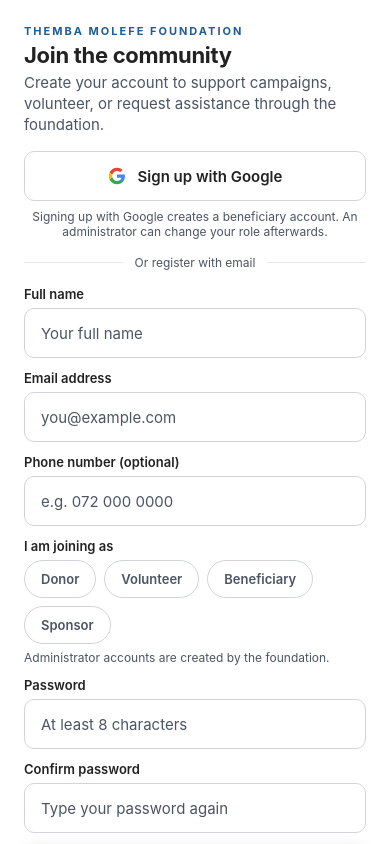
it: RegisterScreen › needs a role to be chosen
The width and height of the screenshot is (390, 844).
In the field with placeholder "Your full name": (195, 333) left=24, top=308, right=366, bottom=358, type "Thandi Mokoena"
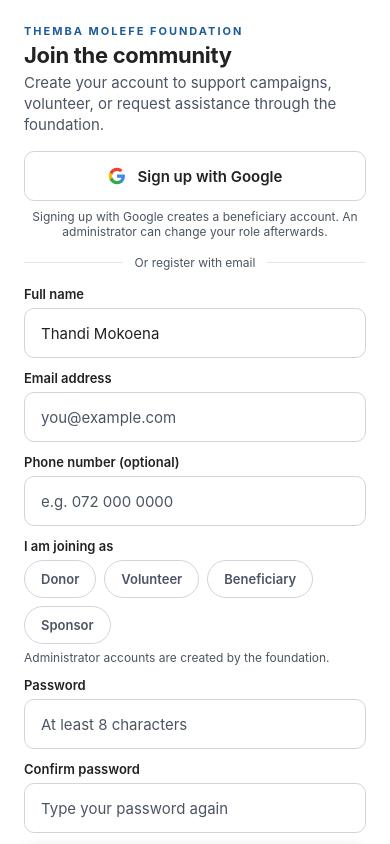
In the field with placeholder "you@example.com": (195, 417) left=24, top=392, right=366, bottom=442, type "thandi@example.com"
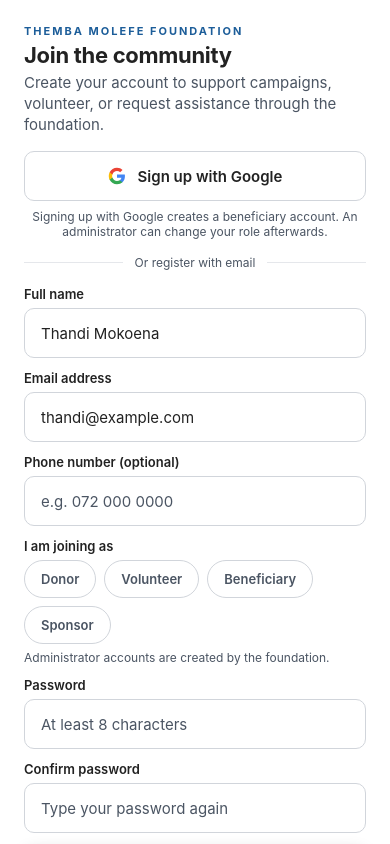
In the field with placeholder "e.g. 072 000 0000": (195, 501) left=24, top=476, right=366, bottom=526, type "072 000 0000"
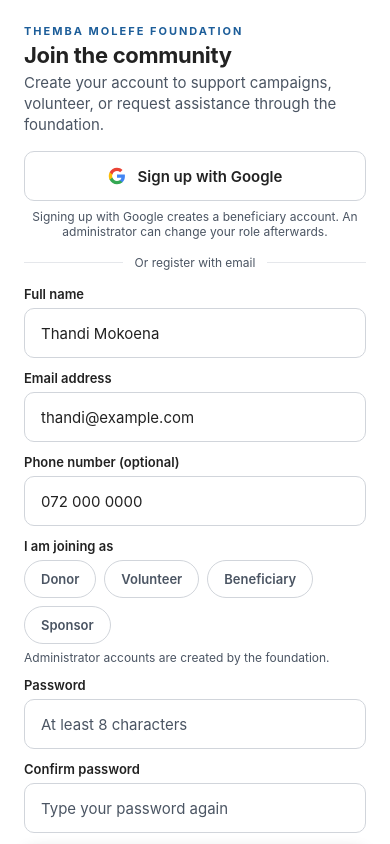
In the password field with placeholder "At least 8 characters": (195, 724) left=24, top=699, right=366, bottom=749, type "community123"
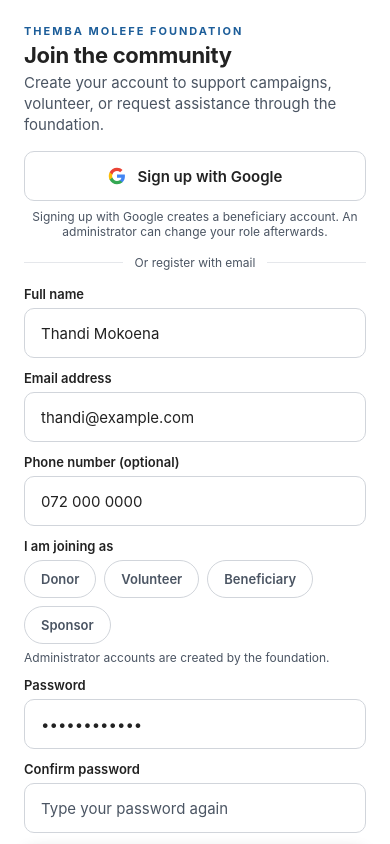
In the password field with placeholder "Type your password again": (195, 808) left=24, top=783, right=366, bottom=833, type "community123"
(page scrolled)
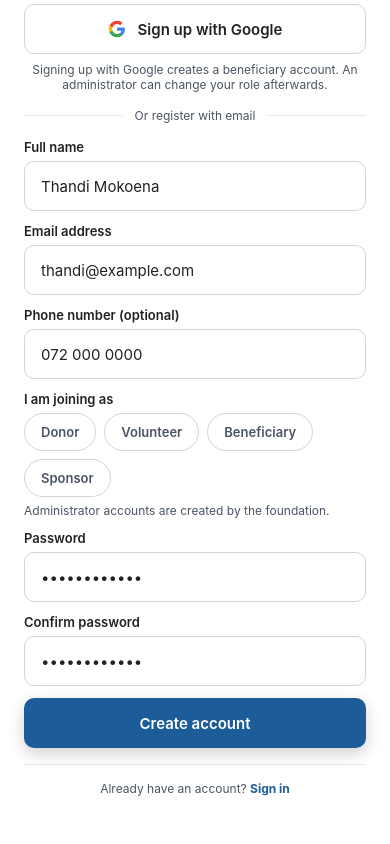
Click the button "Create account": (195, 723) left=24, top=698, right=366, bottom=748
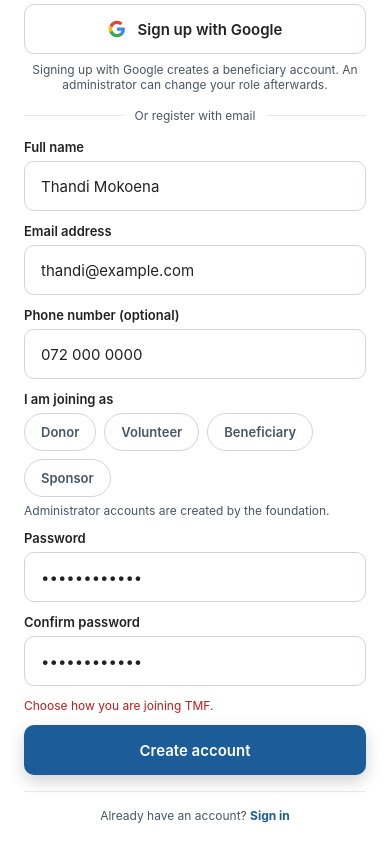
Expected: the text "Choose how you are joining TMF." is shown, left=24, top=698, right=213, bottom=713
